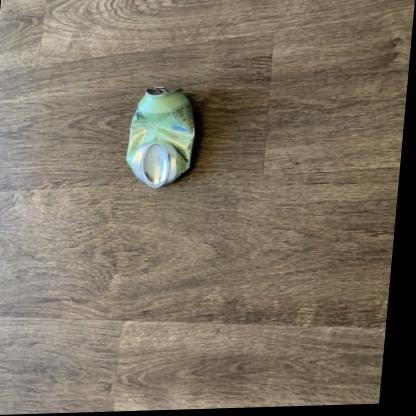trash: (126, 87, 194, 187)
